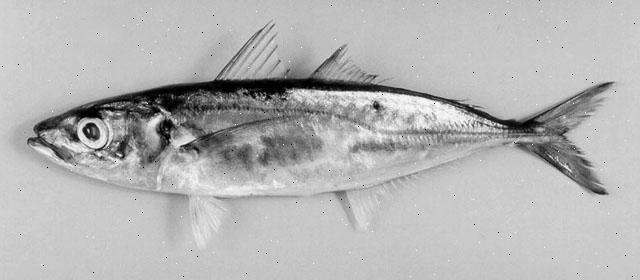Mulut: (14, 112, 78, 178)
Sirip Anal: (346, 167, 426, 237)
Sirip Dada: (184, 108, 312, 168)
Sirip Ekor: (526, 63, 622, 203)
Sirip Perut: (179, 191, 239, 251)
Sirip Punggung: (214, 18, 390, 99)
